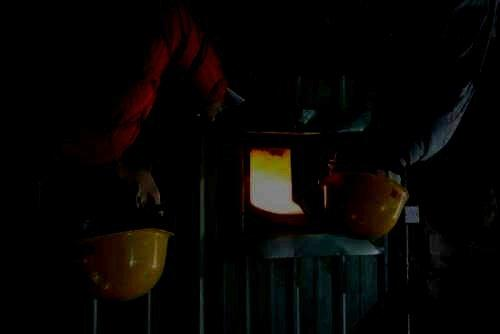helmet: (58, 164, 174, 301), (320, 135, 410, 243)
